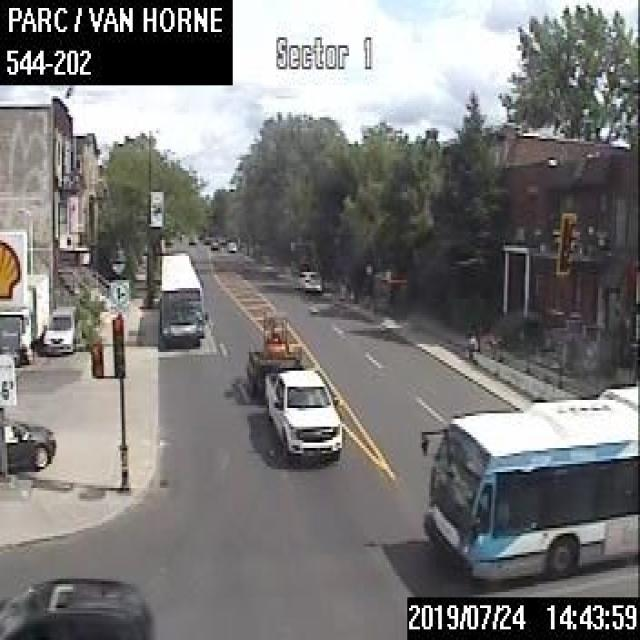bus: (416, 384, 638, 589), (159, 248, 208, 341)
cyclist: (463, 317, 480, 368)
vehicle: (244, 313, 344, 462), (0, 568, 155, 637), (0, 270, 47, 364), (41, 304, 80, 352), (292, 264, 324, 293), (224, 240, 235, 250), (210, 239, 218, 248)
